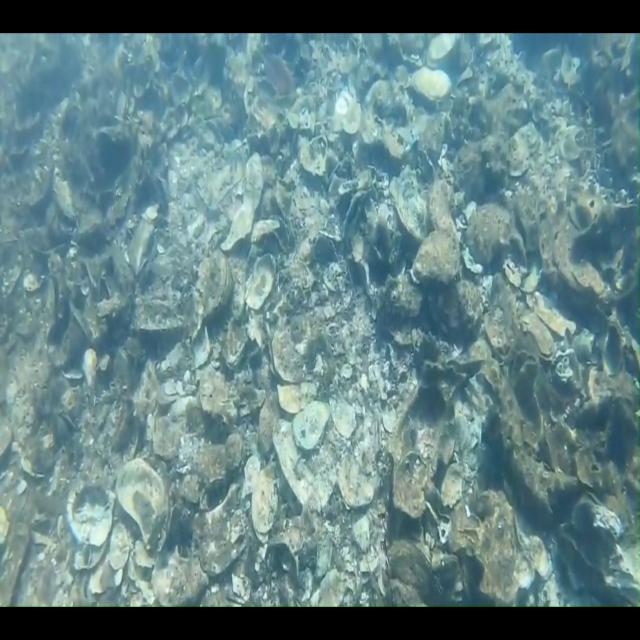Oyster-Closed: (457, 196, 530, 279), (556, 492, 632, 568), (220, 150, 272, 257), (439, 372, 499, 463), (425, 275, 492, 350), (188, 248, 241, 318), (62, 481, 116, 549), (411, 227, 463, 286), (284, 395, 334, 454), (601, 313, 640, 378), (408, 65, 454, 104), (423, 25, 459, 67), (509, 351, 539, 393), (334, 89, 361, 133), (440, 461, 464, 508)
Oyster-Open: (104, 451, 193, 557), (241, 250, 281, 314)
